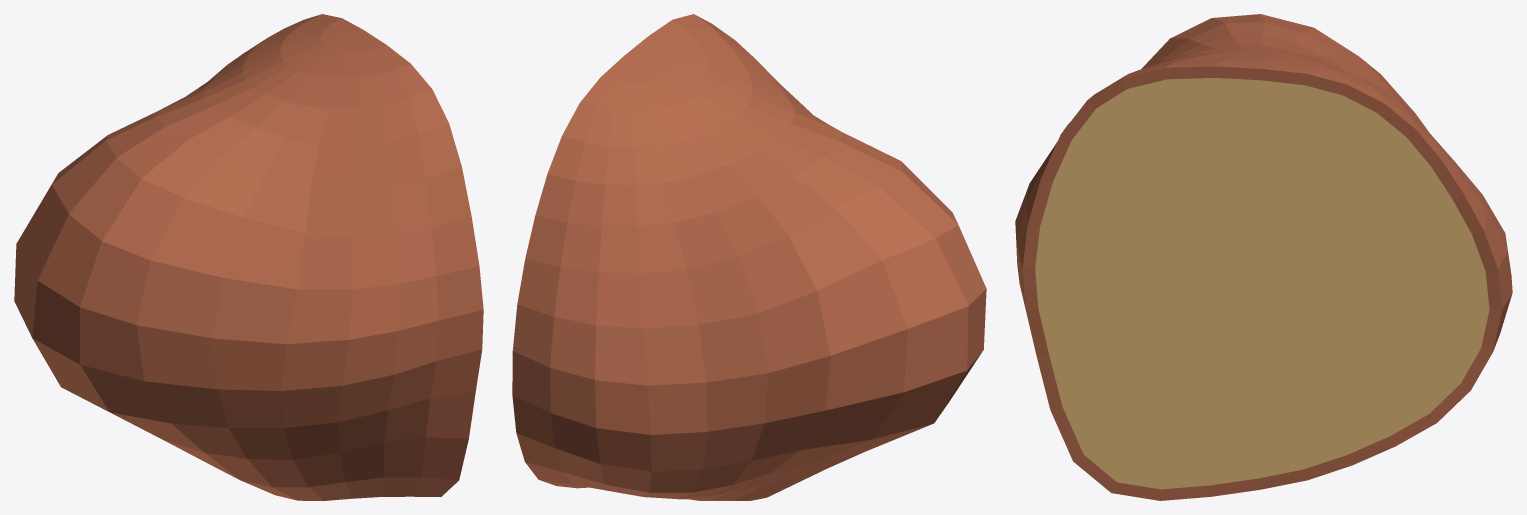
Rendered from PotatoLeft.fbx.
The picture shows the model from 3 angles, left to right: view 1: azimuth 30°, elevation 25°; view 2: azimuth 150°, elevation 25°; view 3: azimuth 270°, elevation 25°; orthographic projection. The views are drawn at different scales.
Parts seen in each view (by area): view 1: Сфера.001; view 2: Сфера.001; view 3: Сфера.001.
Part boxes in pixels (bbox=[...]): Сфера.001: bbox=[14, 14, 483, 500]; Сфера.001: bbox=[512, 14, 986, 500]; Сфера.001: bbox=[1015, 14, 1512, 500].
Bounding box in the file's own units: 186 × 224 × 233.
